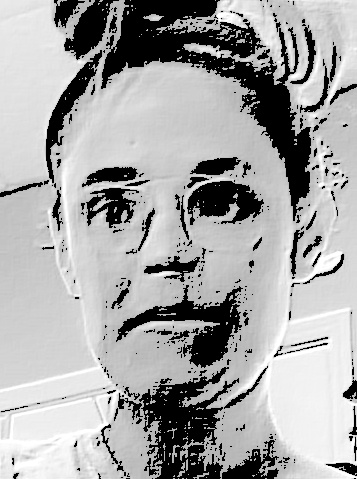nose_M_C: (137, 208, 205, 293)
